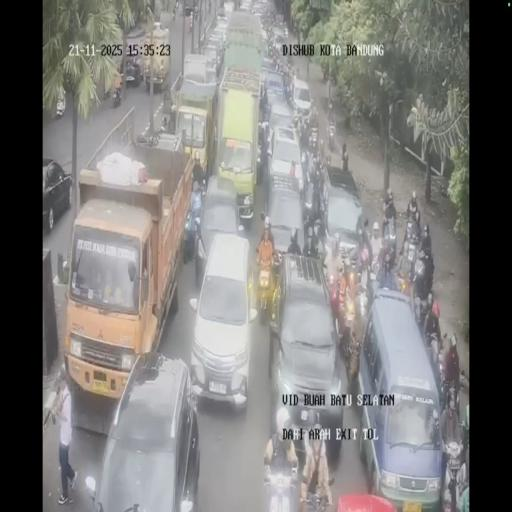3: (173, 66, 216, 181), (143, 22, 170, 92), (122, 29, 146, 84)
car: (356, 288, 443, 505), (89, 353, 199, 509), (269, 257, 343, 454), (195, 173, 243, 284), (320, 170, 363, 262), (263, 186, 305, 264), (42, 157, 72, 234), (267, 100, 296, 143), (292, 76, 312, 120), (202, 42, 222, 81), (272, 32, 290, 60), (251, 0, 268, 19), (260, 54, 276, 74), (260, 30, 270, 58), (215, 4, 229, 22), (240, 0, 252, 13)
truck: (261, 448, 300, 510), (302, 166, 326, 230), (442, 447, 466, 510), (346, 241, 372, 292), (399, 221, 420, 280), (412, 254, 434, 306), (424, 331, 442, 386), (381, 215, 397, 264), (299, 137, 313, 180), (284, 77, 294, 108), (308, 124, 318, 153), (112, 85, 122, 108), (328, 121, 335, 151), (185, 14, 195, 34), (194, 4, 198, 21), (172, 5, 176, 21)
